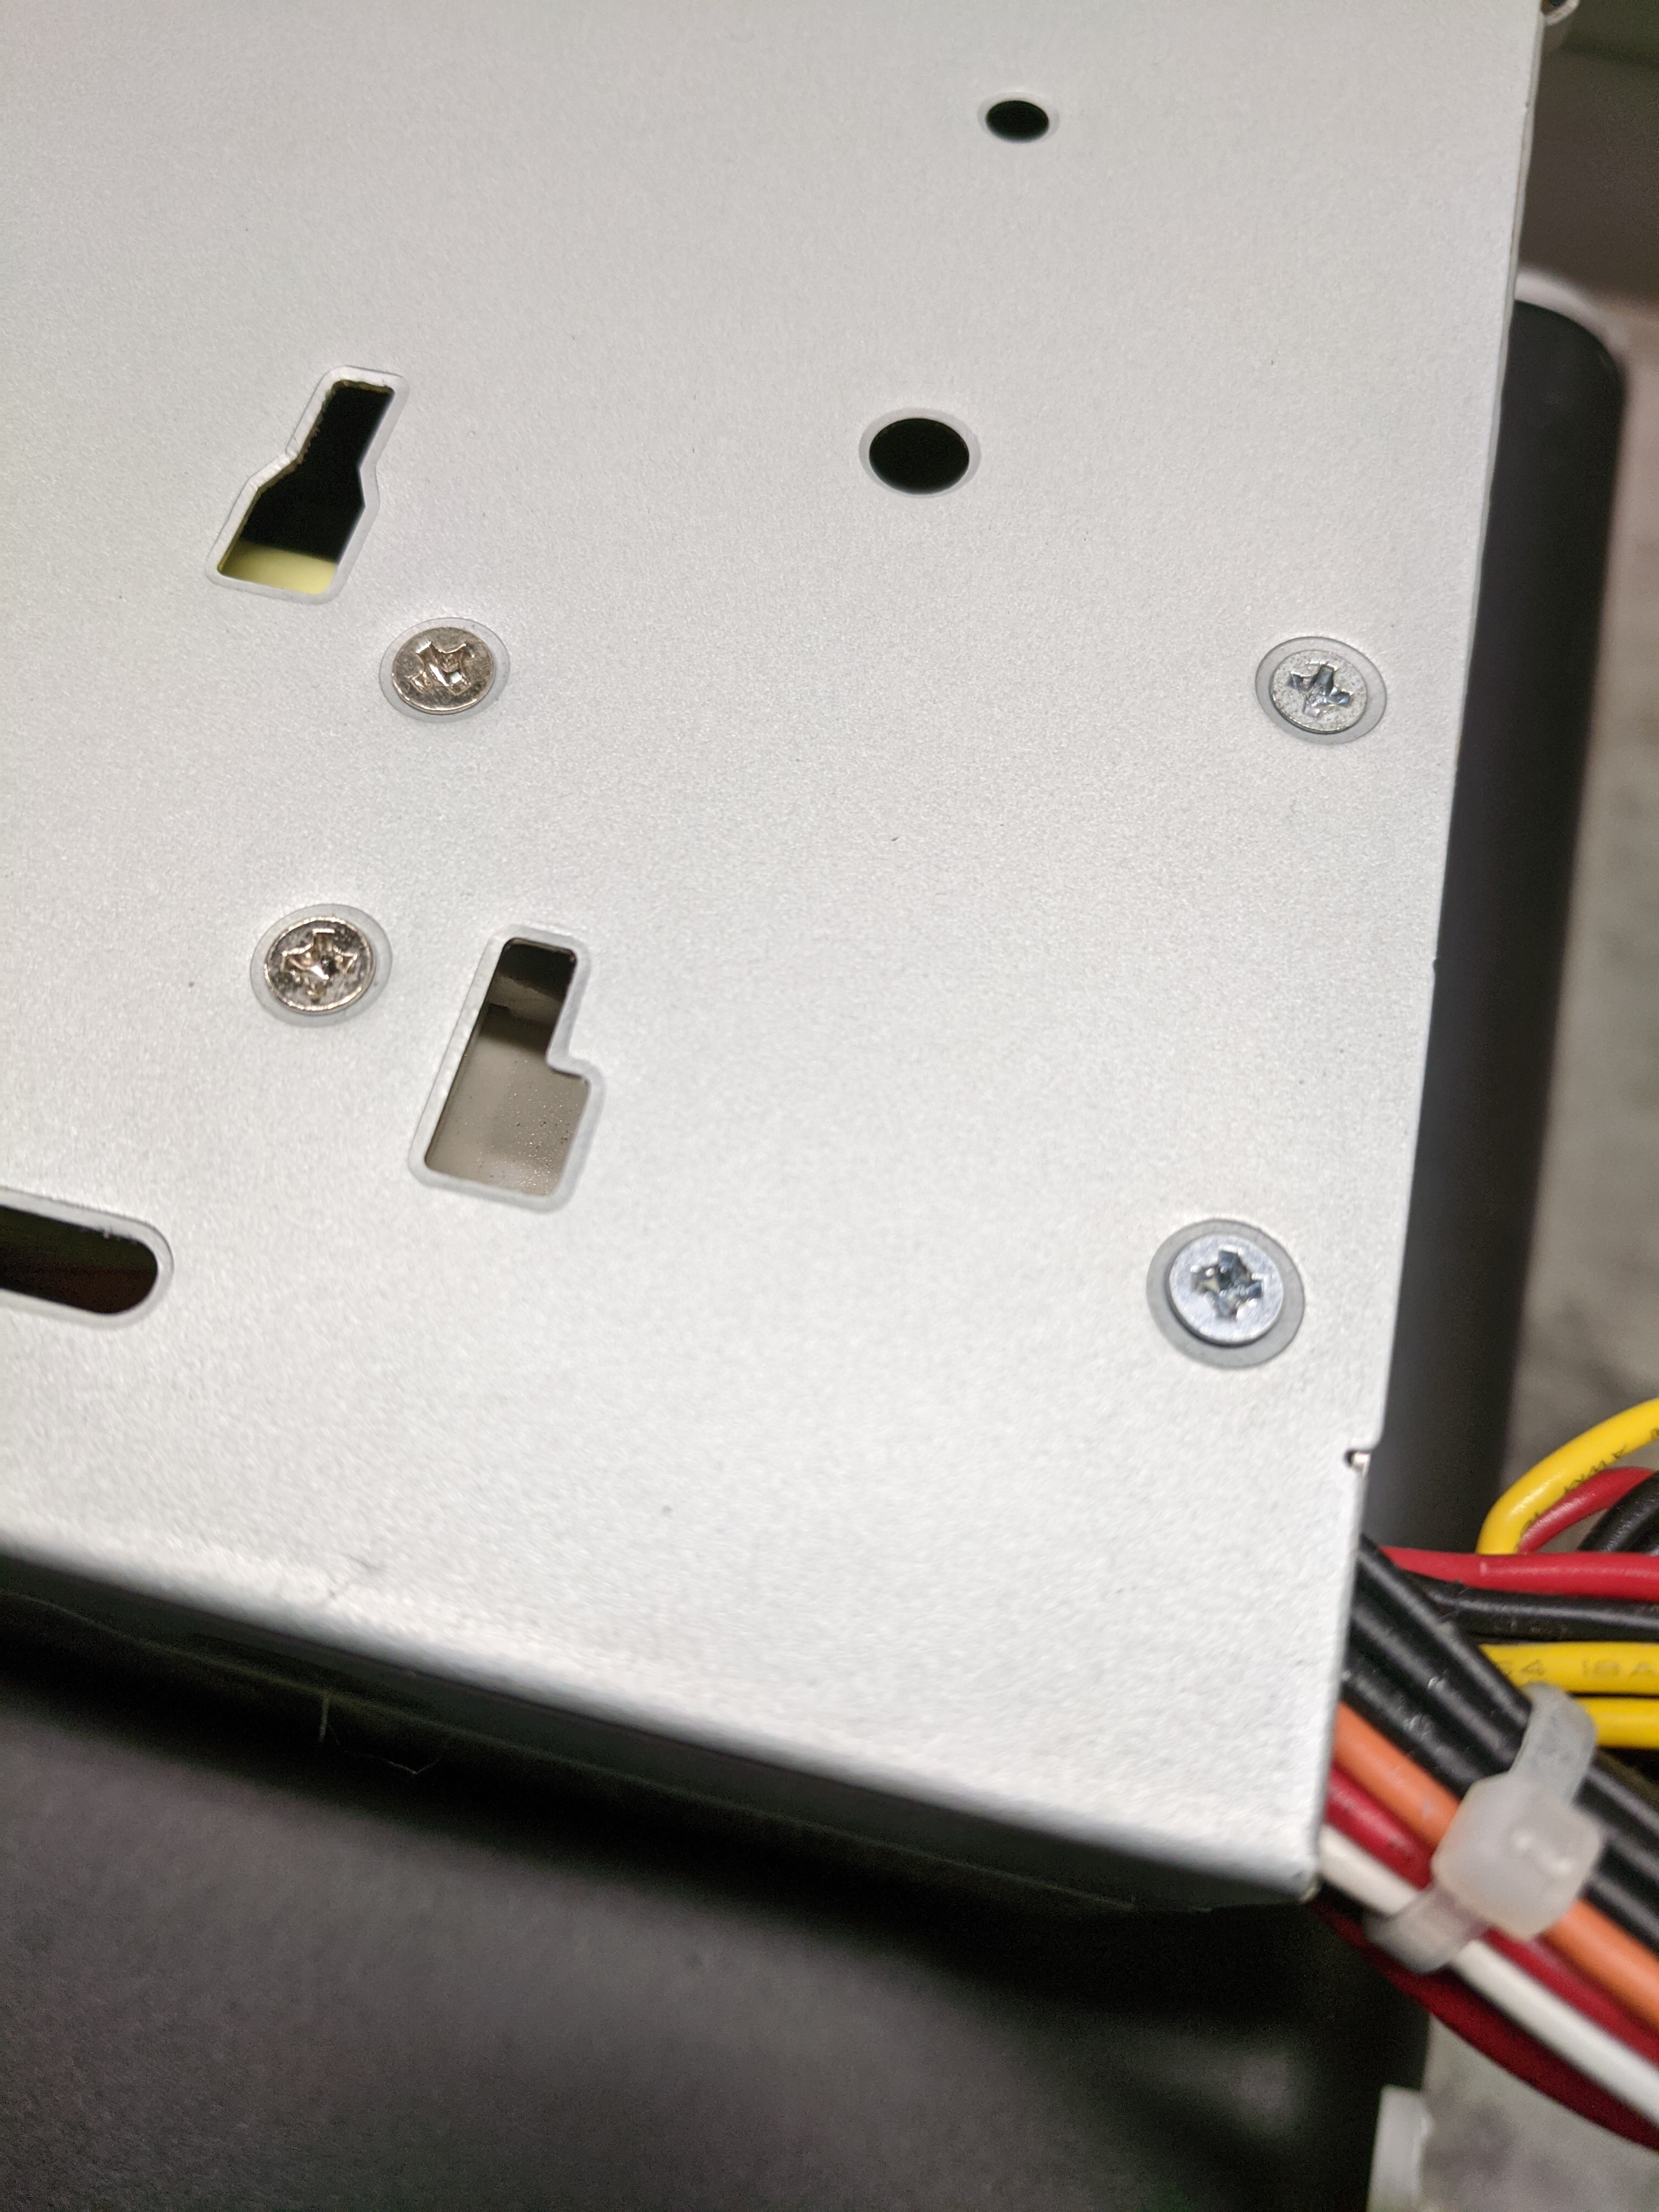cross_recessed_screw: (1143, 1216, 1309, 1346), (249, 907, 382, 1010), (1255, 637, 1385, 728), (382, 625, 505, 709)
